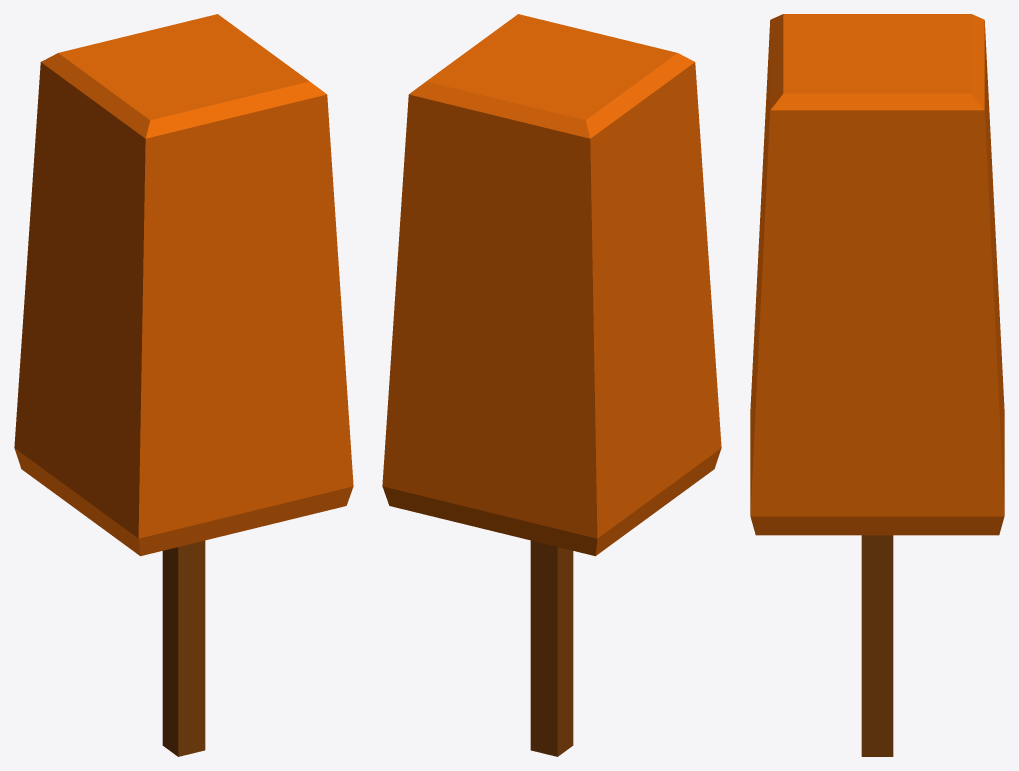
The model's file is Tree_35_Fall.fbx.
The picture shows the model from 3 angles, left to right: view 1: azimuth 30°, elevation 25°; view 2: azimuth 150°, elevation 25°; view 3: azimuth 270°, elevation 25°; orthographic projection. The views are drawn at different scales.
Parts seen in each view (by area): view 1: Tree_35_Fall; view 2: Tree_35_Fall; view 3: Tree_35_Fall.
Part boxes in pixels (box(x1,y1,x2,y2)): Tree_35_Fall: box(14, 14, 353, 756); Tree_35_Fall: box(382, 14, 721, 756); Tree_35_Fall: box(750, 14, 1004, 756).
Bounding box in the file's own units: 113 × 342 × 113.
